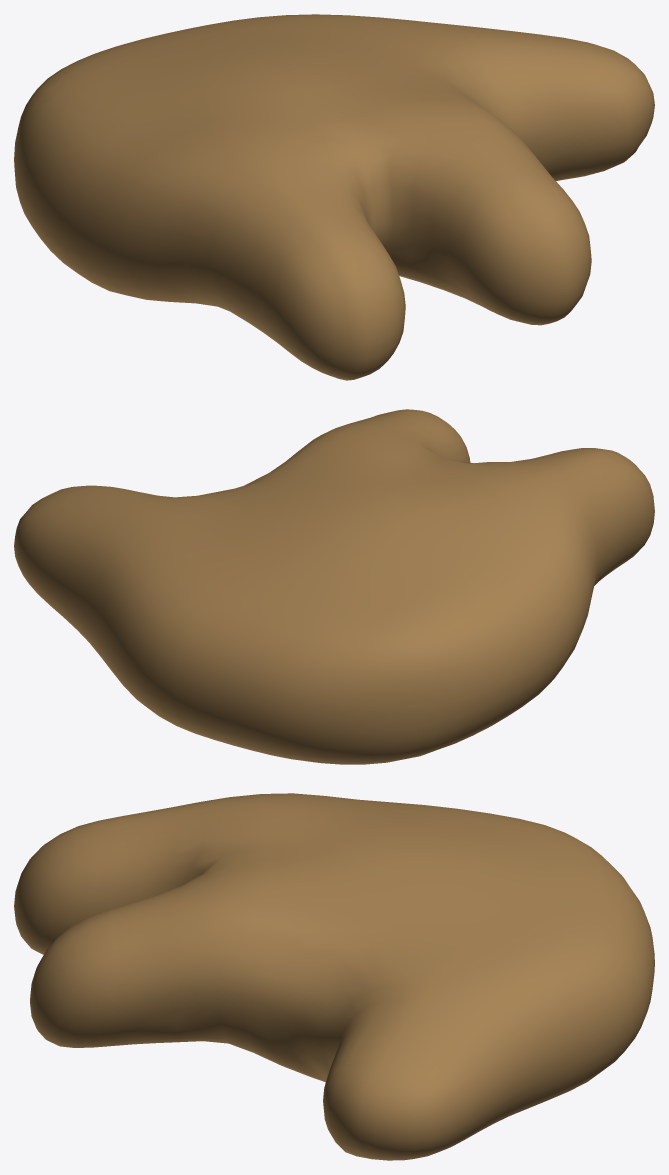
The model's file is right-hand.fbx.
3 views of the same model, one above another, from view 1: azimuth 30°, elevation 25°; view 2: azimuth 150°, elevation 25°; view 3: azimuth 270°, elevation 25° (orthographic). The views are drawn at different scales.
Visible parts, largest first — view 1: Right Hand; view 2: Right Hand; view 3: Right Hand.
Part boxes in pixels (box(x1,y1,x2,y2)): Right Hand: box(14, 14, 654, 380); Right Hand: box(14, 409, 654, 764); Right Hand: box(14, 793, 654, 1160).
Bounding box in the file's own units: 15.99 × 5.25 × 15.84.
